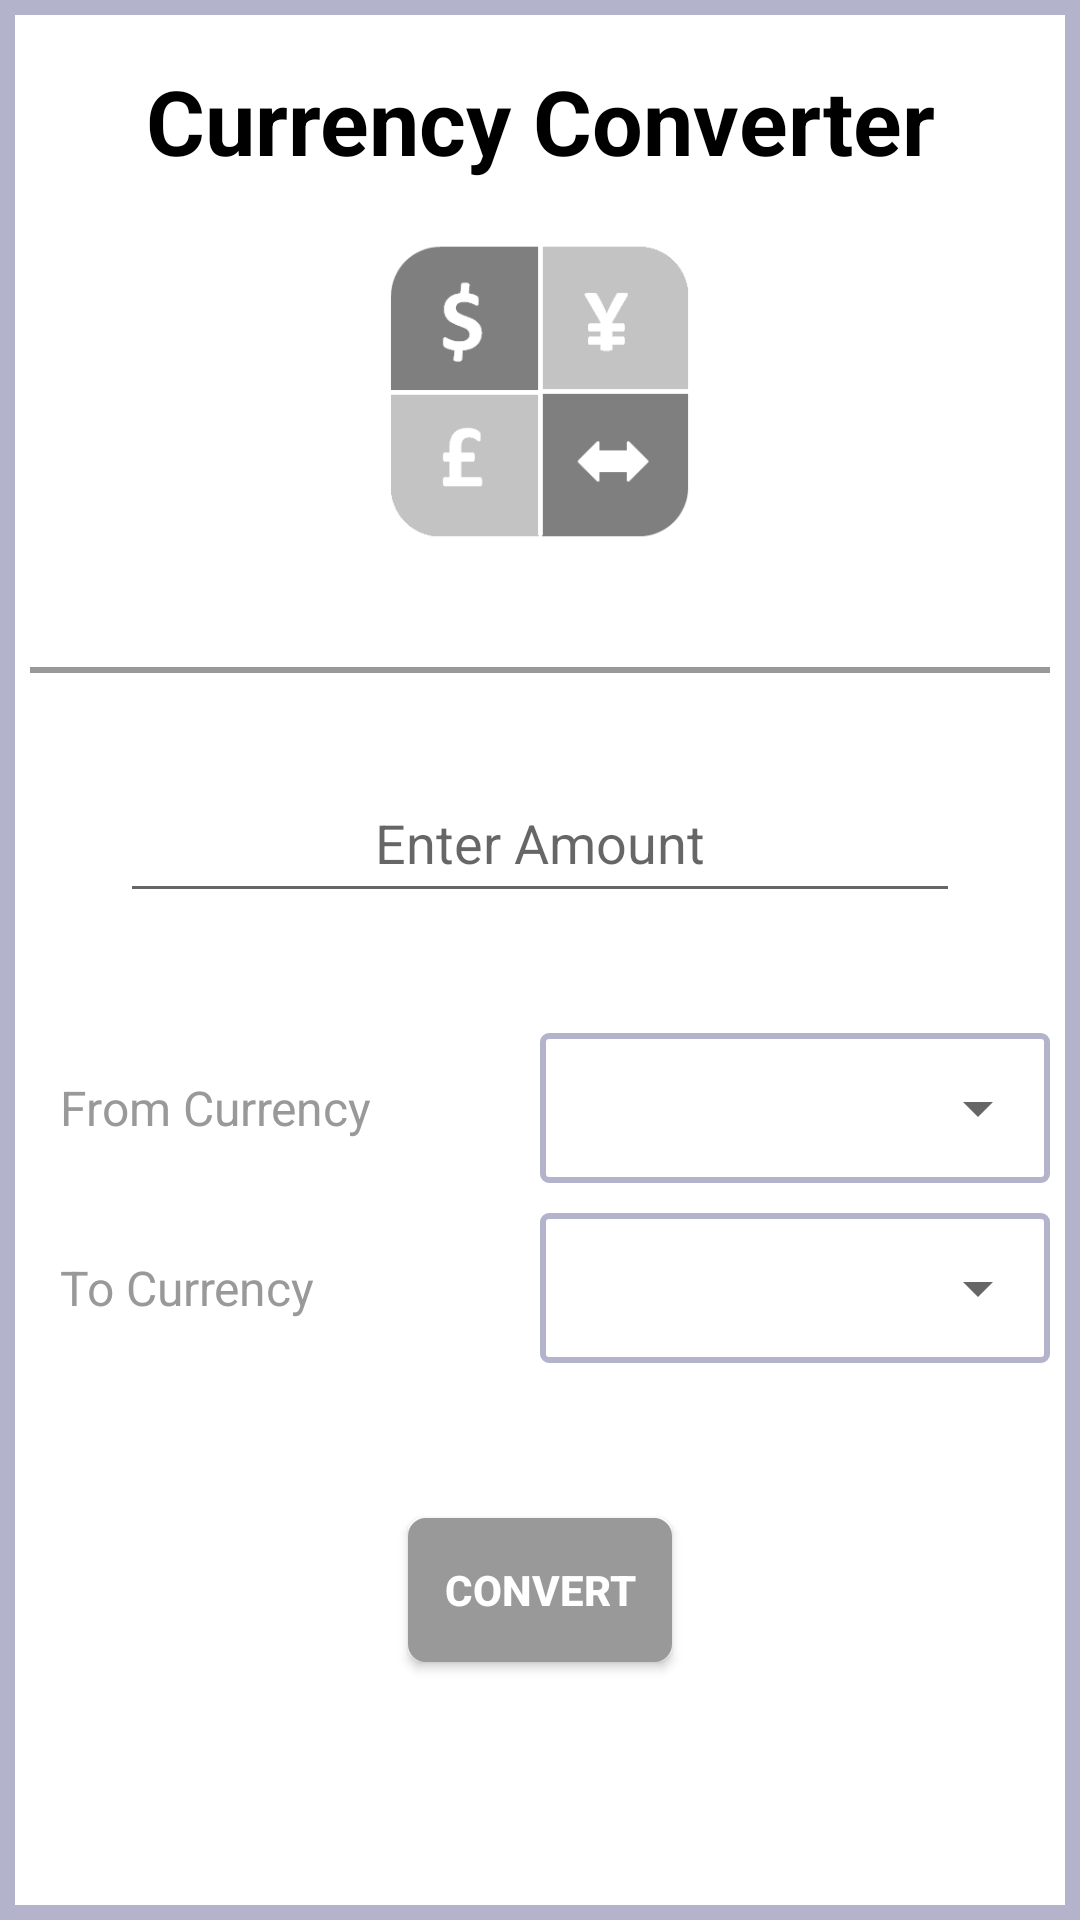

Icons on this 1080px x 1920px Android screen, each with the point to tap as (x=x, y=y):
app: (x=539, y=391)
